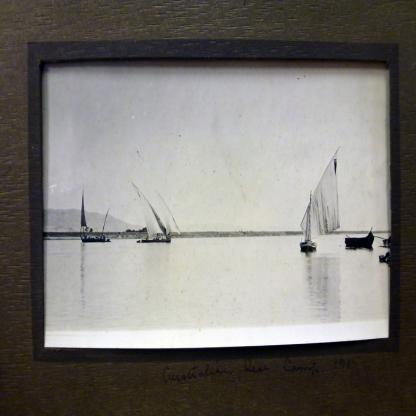Picture-frame: (27, 42, 401, 361)
